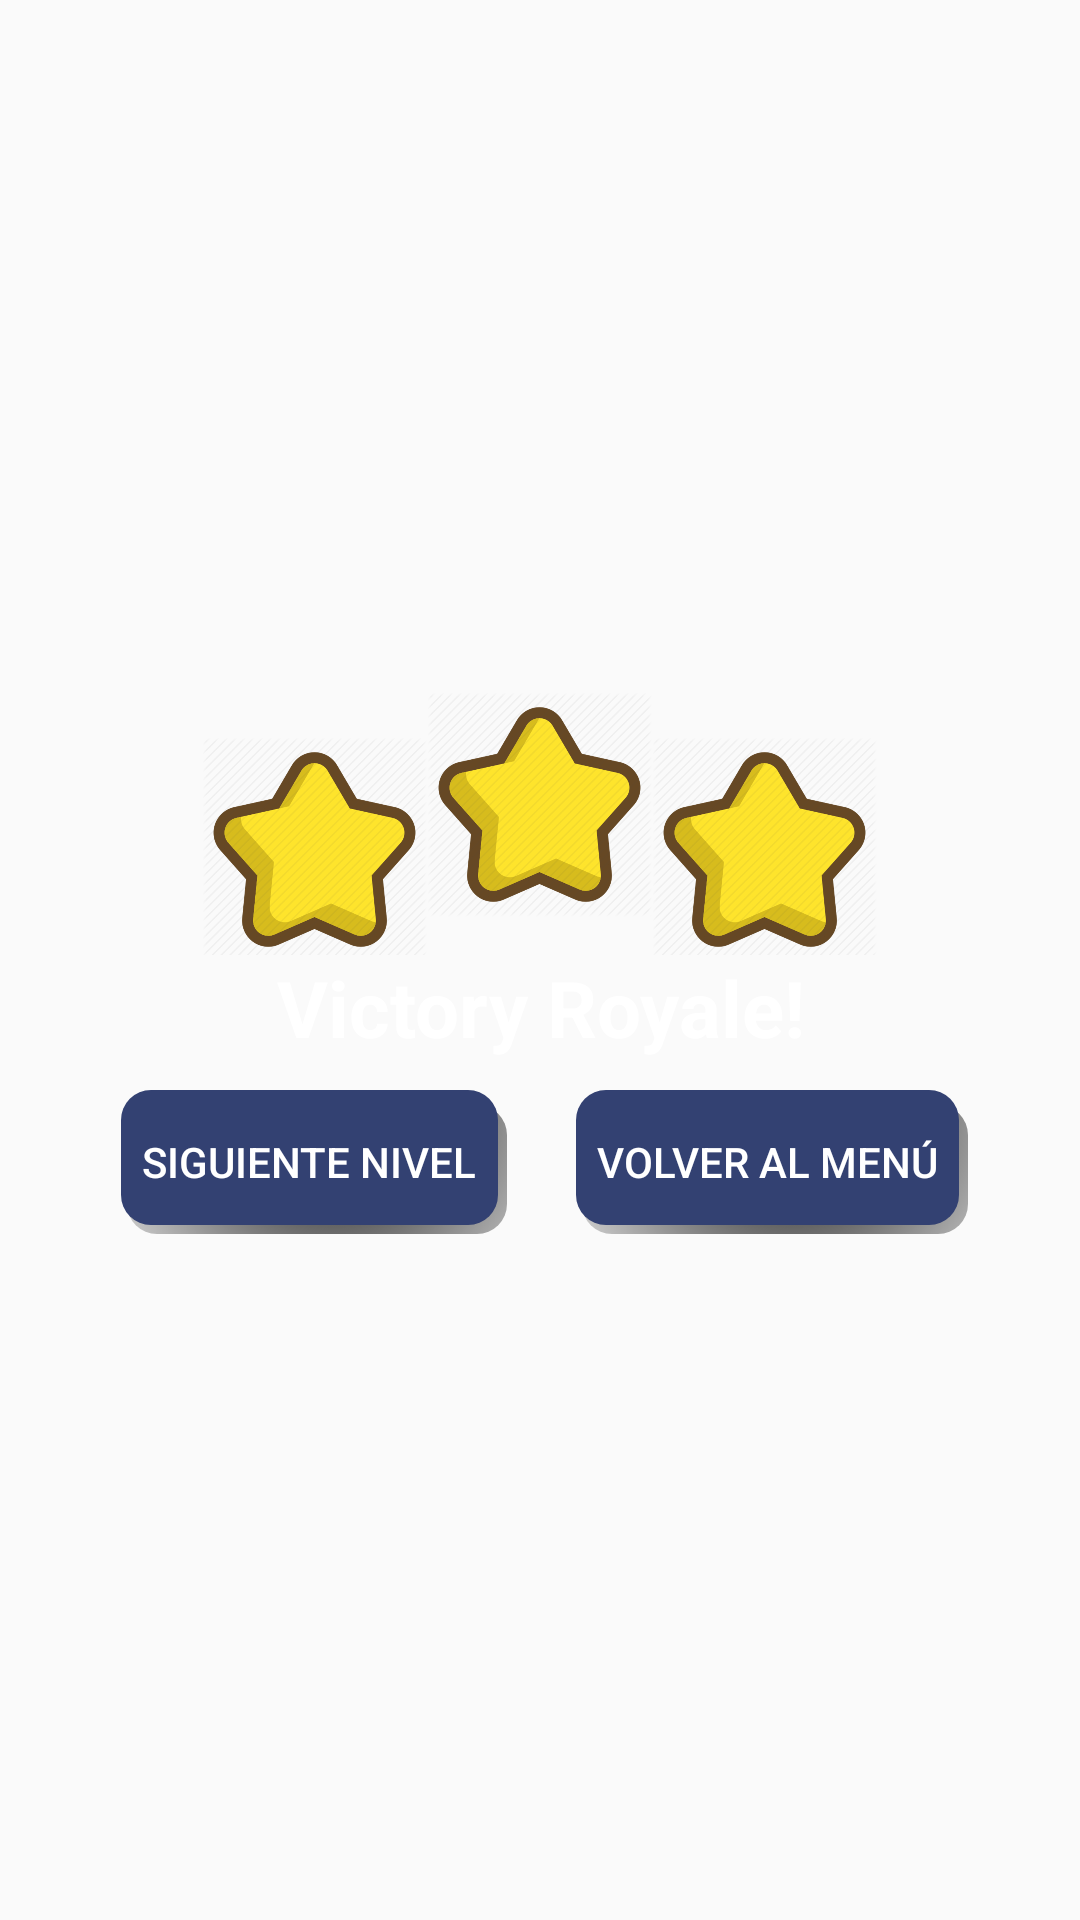

Point at icon controls on the screen. Image size 1080px x 1920px, points as [x,y].
star: [539,804], [314,849], [764,849]
